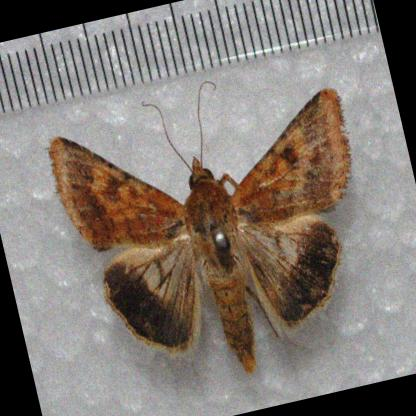helicoverpa: (45, 91, 351, 371)
